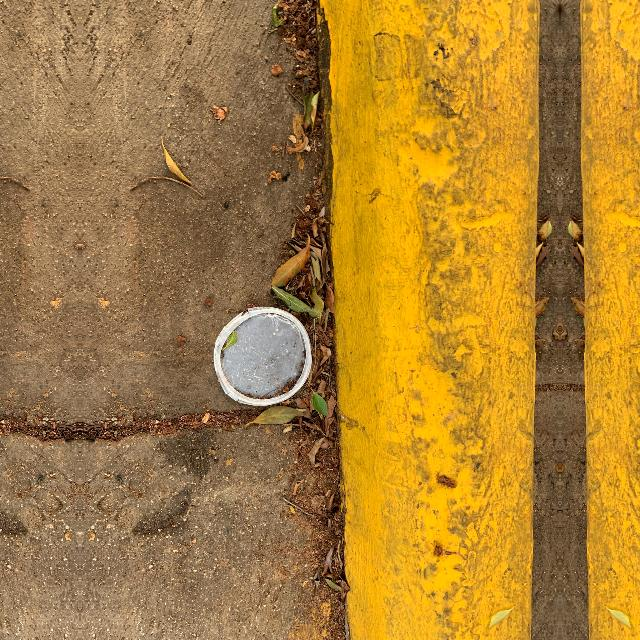Plastic: (206, 295, 318, 413)
